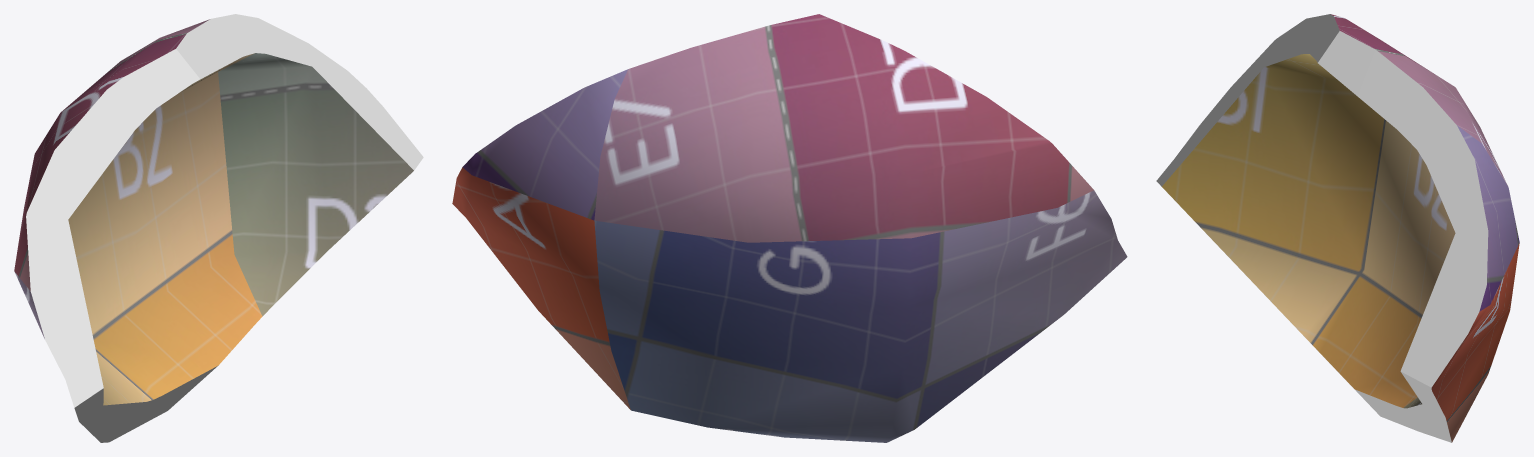
File: SmallVase_SHAT_cell.fbx
The picture shows the model from 3 angles, left to right: view 1: azimuth 30°, elevation 25°; view 2: azimuth 150°, elevation 25°; view 3: azimuth 270°, elevation 25°; orthographic projection. The views are drawn at different scales.
Visible parts, largest first — view 1: SmallVase_SHAT_cell.008; view 2: SmallVase_SHAT_cell.008; view 3: SmallVase_SHAT_cell.008.
Part boxes in pixels (left/top/right/bottom): SmallVase_SHAT_cell.008: left=14, top=14, right=423, bottom=442; SmallVase_SHAT_cell.008: left=452, top=14, right=1127, bottom=442; SmallVase_SHAT_cell.008: left=1156, top=14, right=1519, bottom=442.
Bounding box in the file's own units: 0.7979 × 0.5863 × 0.5083.
2 materials, 1 textured.
